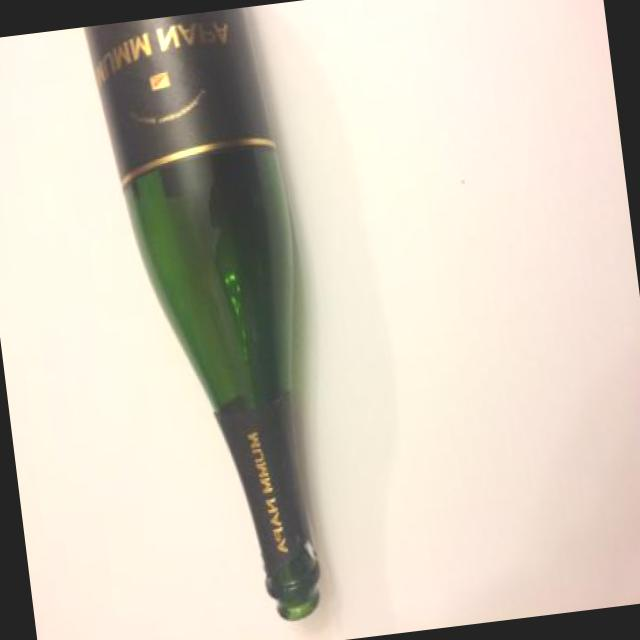chai_thuy_tinh: (82, 7, 320, 621)
